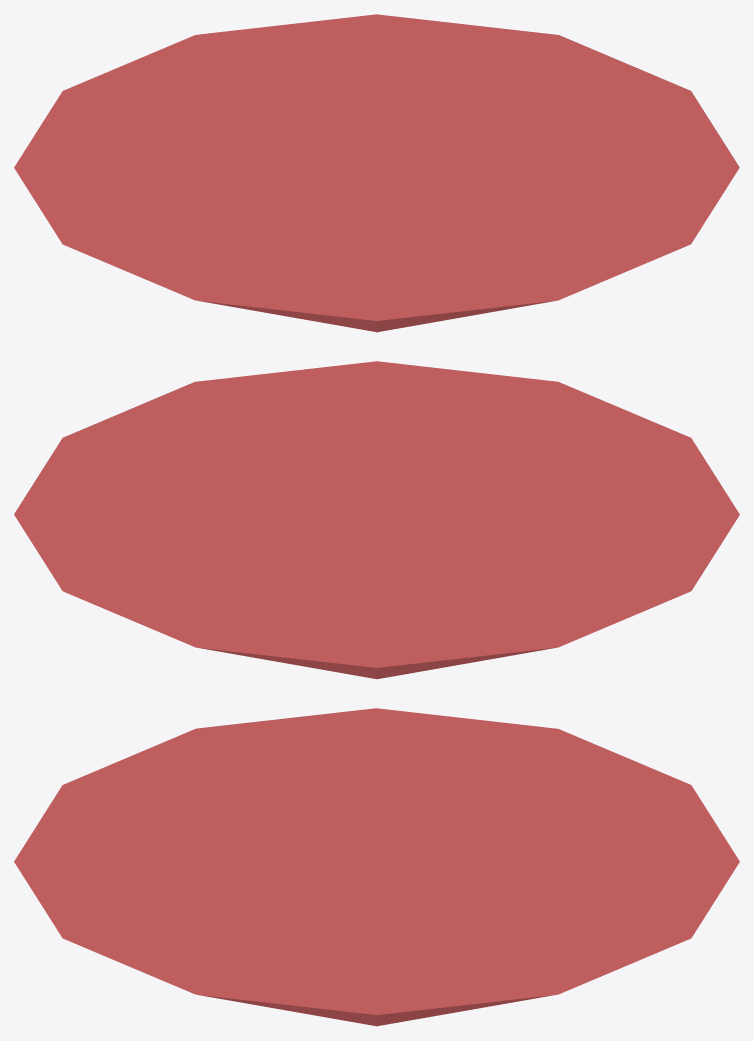
Rendered from bk_ukisima.glb.
3 renders of one model, top to bottom at view 1: azimuth 30°, elevation 25°; view 2: azimuth 150°, elevation 25°; view 3: azimuth 270°, elevation 25°, orthographic.
Parts seen in each view (by area): view 1: bk_ukisima_col; view 2: bk_ukisima_col; view 3: bk_ukisima_col.
Part boxes in pixels (x1,y1,x2,y2): bk_ukisima_col: (14, 14, 739, 332); bk_ukisima_col: (14, 361, 739, 679); bk_ukisima_col: (14, 708, 739, 1026).
Bounding box in the file's own units: 10.01 × 2.51 × 10.
